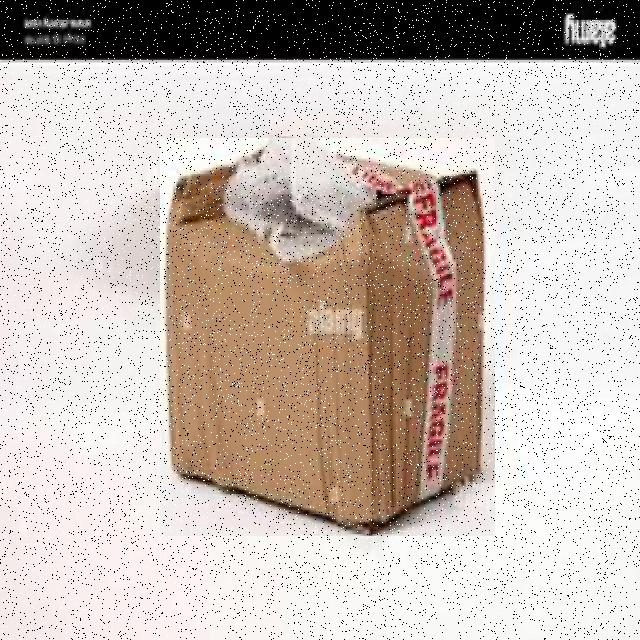defect: (160, 137, 495, 535)
